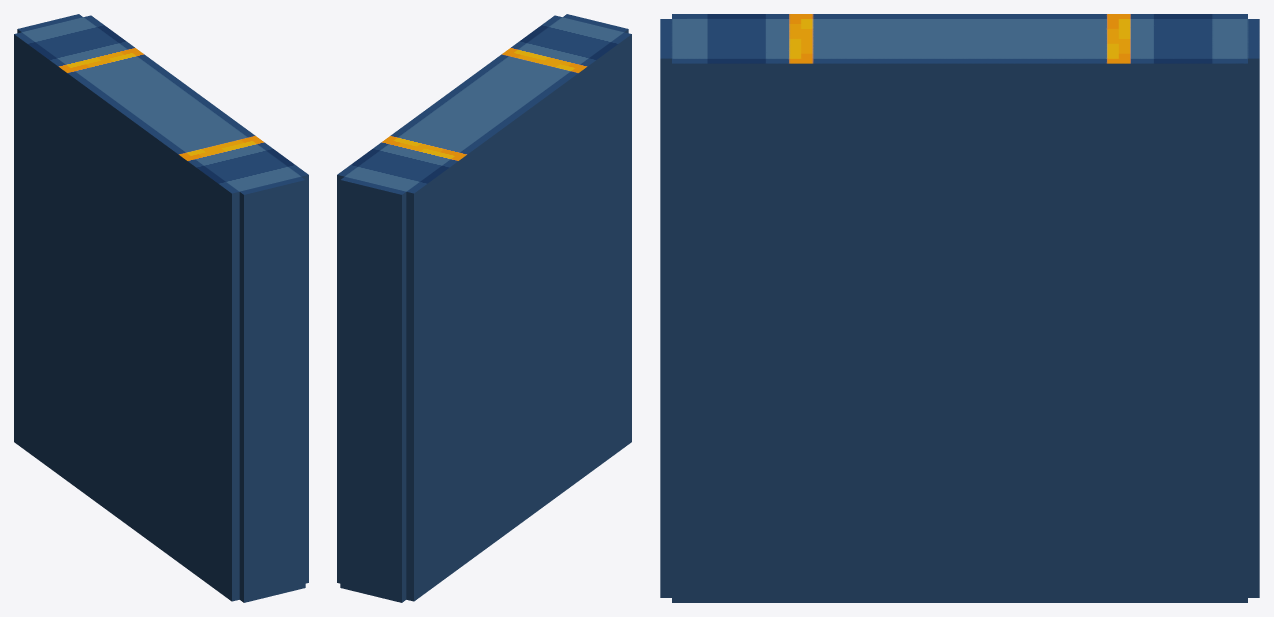
Rendered from book4-1.glb.
3 renders of one model, left to right at view 1: azimuth 30°, elevation 25°; view 2: azimuth 150°, elevation 25°; view 3: azimuth 270°, elevation 25°, orthographic. The views are drawn at different scales.
Visible parts, largest first — view 1: book_spines.001-col; view 2: book_spines.001-col; view 3: book_spines.001-col.
Boxes of the visible parts, x1,y1,x2,y2 form: book_spines.001-col: (14, 14, 308, 602); book_spines.001-col: (337, 14, 631, 602); book_spines.001-col: (660, 14, 1259, 602).
Size of the model in its own units: 0.1562 by 0.7912 by 0.7969.
Materials: 2 (1 with a texture image).
